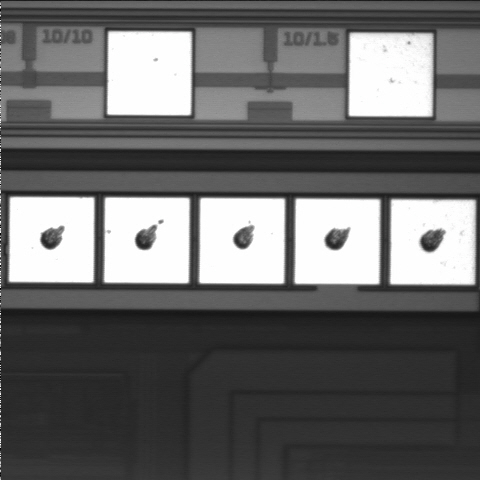pad: (199, 198, 285, 284), (9, 197, 94, 282), (104, 198, 189, 283), (295, 199, 380, 284), (390, 200, 475, 284), (108, 32, 191, 115), (349, 33, 432, 116)
